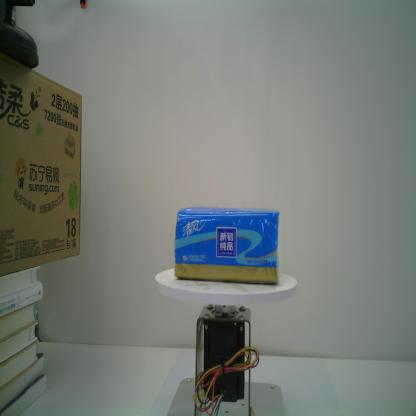Tissue: (172, 204, 282, 286)
